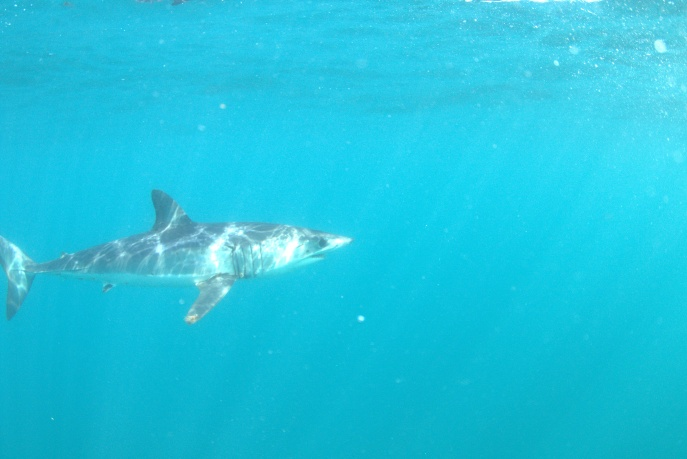Mako: (1, 181, 378, 330)
